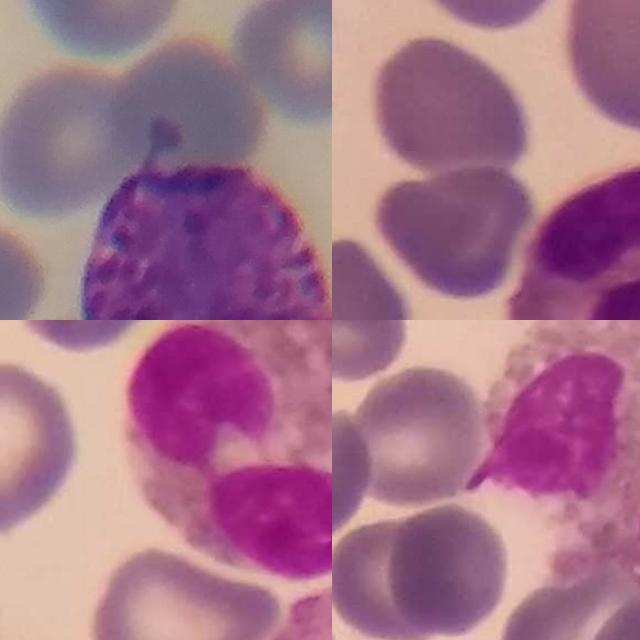Basophil: (84, 161, 332, 320)
Eosinophil: (120, 320, 332, 578), (479, 320, 640, 599), (498, 164, 640, 320)
